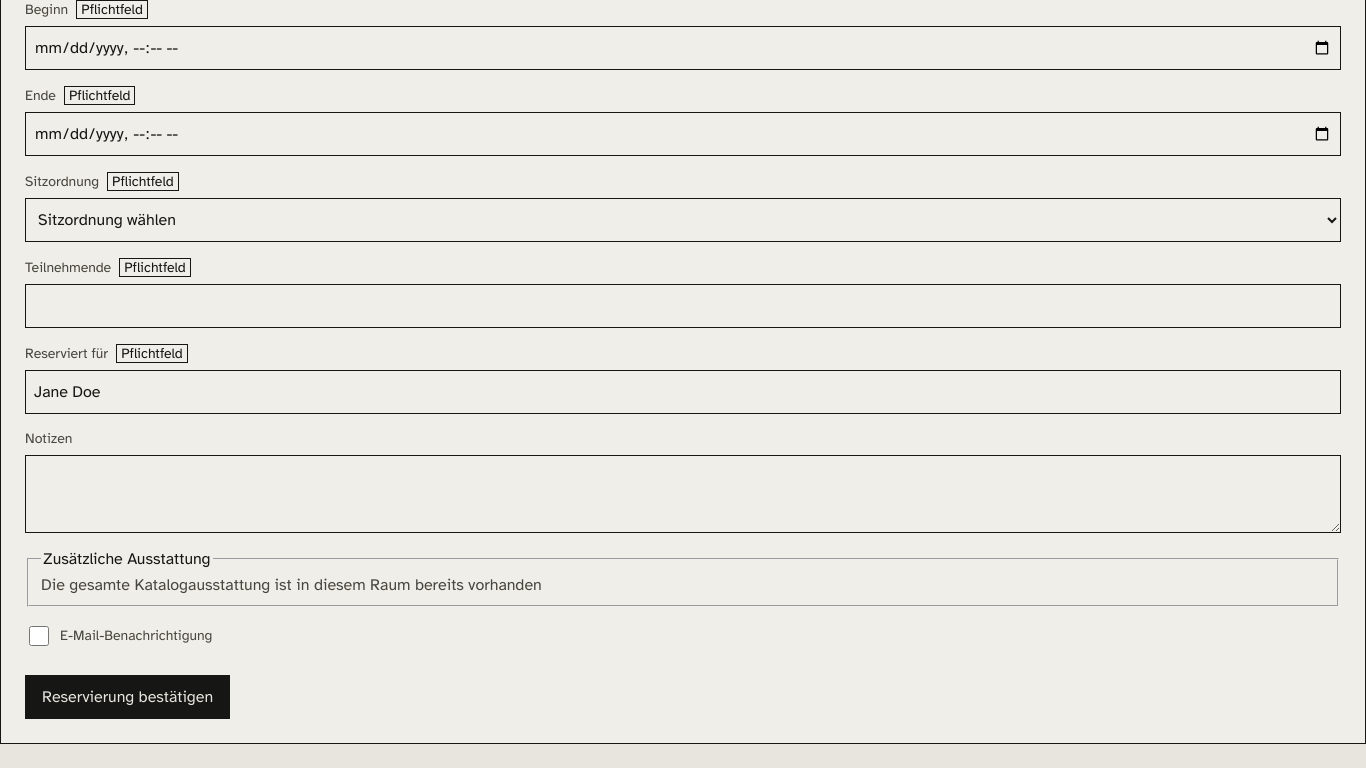
it: ReservationForm fields and errors (feature 019) › attaches a missing-time error to the start field with symbol and "Fehler:"
(page scrolled)
Click the button "Reservierung bestätigen".
click(128, 697)  # box top-left (25, 675), bottom-right (230, 719)
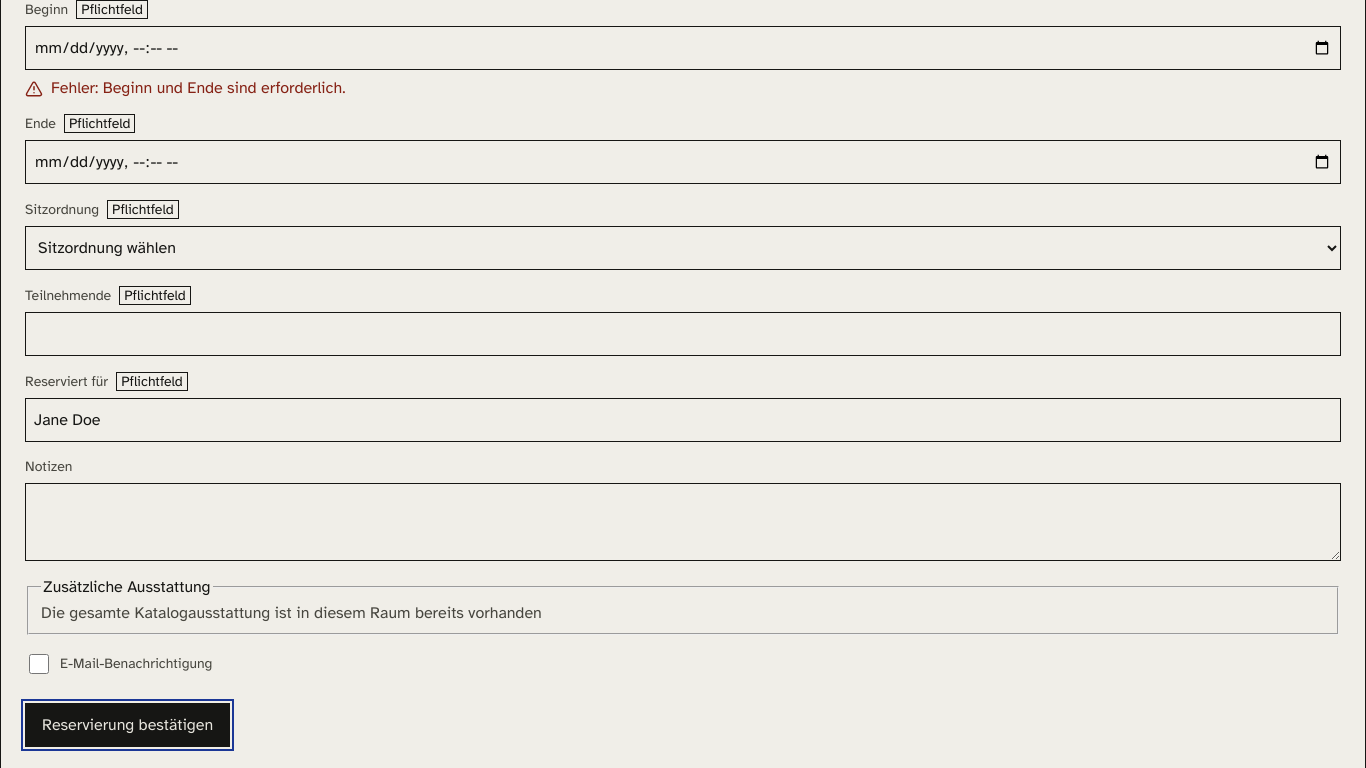
Expected: the message shows "Fehler:", top-left (51, 78), bottom-right (98, 98)
Expected: the message shows "Beginn und Ende sind erforderlich.", top-left (103, 78), bottom-right (346, 98)
